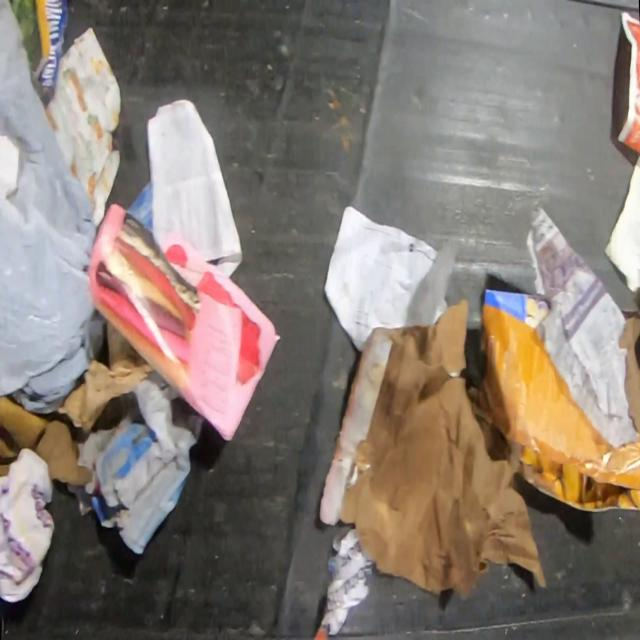cardboard: (480, 289, 640, 511), (0, 395, 92, 486), (618, 286, 640, 436)
soft_plastic: (0, 0, 106, 413)
